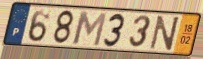3: (127, 15, 152, 50), (102, 12, 126, 48)
6: (27, 8, 52, 44)
8: (52, 8, 77, 46)
M: (71, 10, 109, 48)
N: (148, 14, 182, 52)
